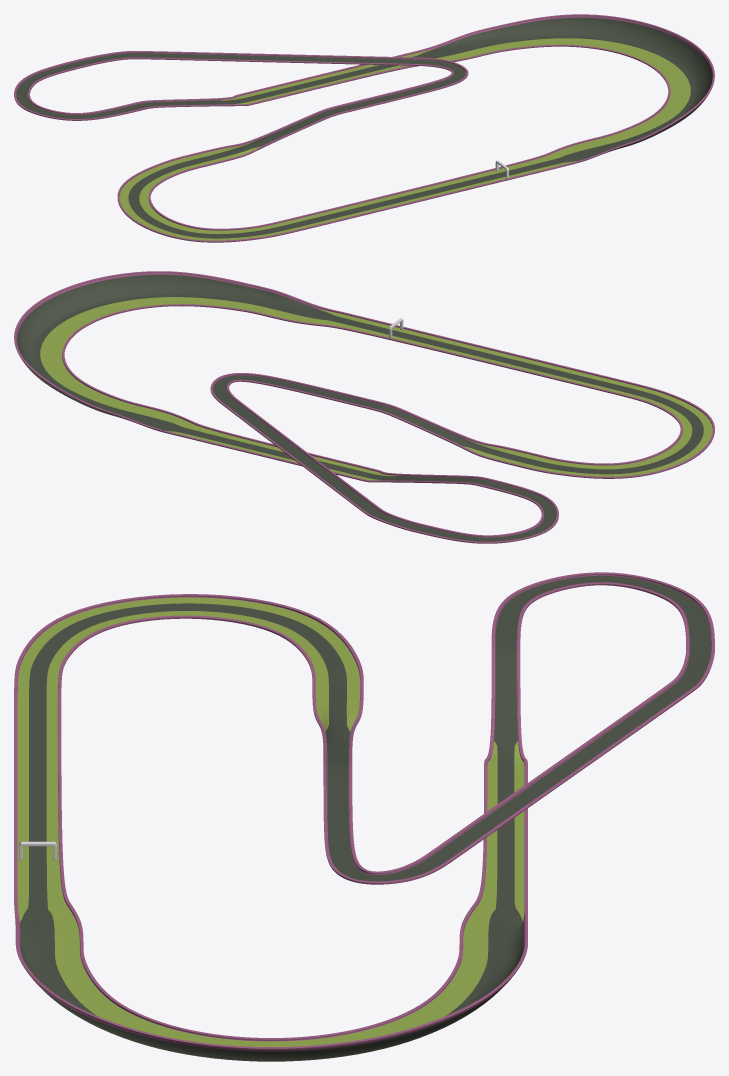
The model's file is 09_15_rennstrecke_export1.fbx.
The picture shows the model from 3 angles, top to bottom: view 1: azimuth 30°, elevation 25°; view 2: azimuth 150°, elevation 25°; view 3: azimuth 270°, elevation 25°; orthographic projection. The views are drawn at different scales.
Parts seen in each view (by area): view 1: join 08 19 pre lowering grass; view 2: join 08 19 pre lowering grass; view 3: join 08 19 pre lowering grass.
Part boxes in pixels (box(x1,y1,x2,y2)): join 08 19 pre lowering grass: box(14, 14, 714, 242); join 08 19 pre lowering grass: box(14, 271, 714, 543); join 08 19 pre lowering grass: box(14, 572, 714, 1061).
Size of the model in its own units: 7564 by 257 by 4694.
